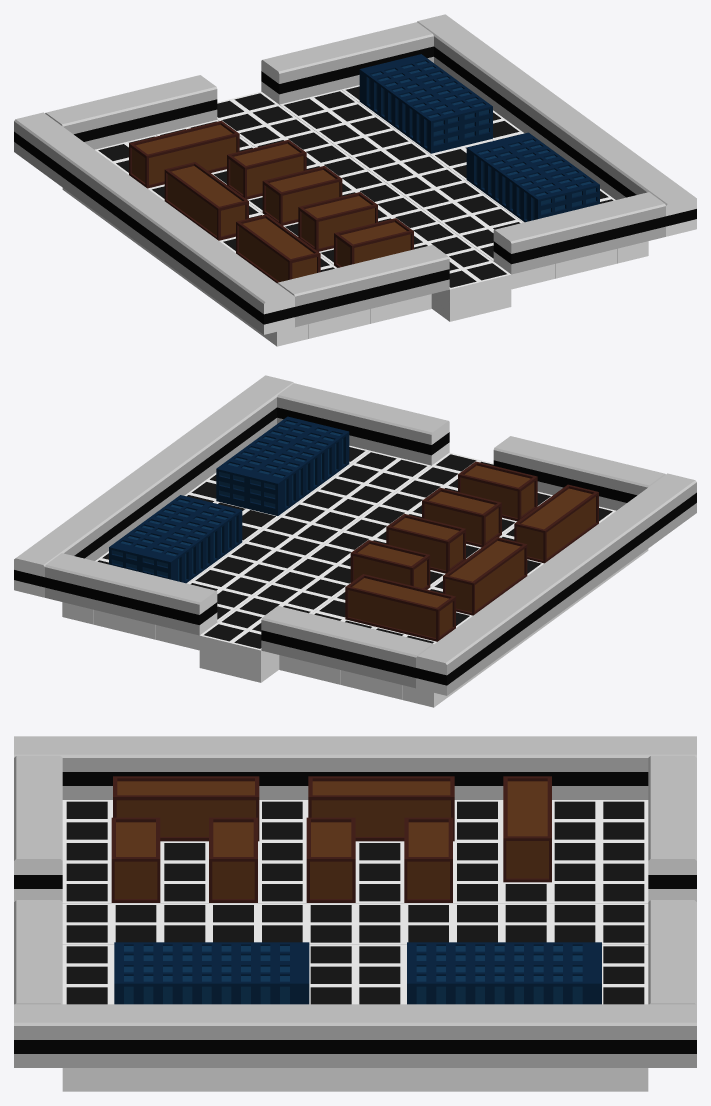
File: cargoMedium2.fbx
The picture shows the model from 3 angles, top to bottom: view 1: azimuth 30°, elevation 25°; view 2: azimuth 150°, elevation 25°; view 3: azimuth 270°, elevation 25°; orthographic projection. The views are drawn at different scales.
Visible parts, largest first — view 1: Cube.163, Cube.195, Cube.009, Cube.008, Cube.003, Cube.164, Cube.197, Cube.196, Cube.198, Cube.194, Cube.001, Cube.168 (+85 smaller); view 2: Cube.195, Cube.009, Cube.163, Cube.003, Cube.008, Cube.194, Cube.196, Cube.197, Cube.001, Cube.198, Cube.164, Cube.010 (+85 smaller); view 3: Cube.194, Cube.164, Cube.008, Cube.003, Cube.009, Cube.197, Cube.001, Cube.196, Cube.198, Cube.195, Cube.163, Cube.174 (+127 smaller).
Boxes of the visible parts, left/top/right/bottom form: Cube.163: left=359, top=61, right=461, bottom=153; Cube.195: left=466, top=140, right=568, bottom=222; Cube.009: left=129, top=120, right=239, bottom=188; Cube.008: left=164, top=162, right=248, bottom=240; Cube.003: left=236, top=214, right=320, bottom=282; Cube.164: left=391, top=54, right=492, bottom=145; Cube.197: left=262, top=166, right=342, bottom=225; Cube.196: left=298, top=192, right=377, bottom=251; Cube.198: left=227, top=139, right=306, bottom=199; Cube.194: left=498, top=132, right=599, bottom=211; Cube.001: left=334, top=218, right=413, bottom=267; Cube.168: left=261, top=52, right=310, bottom=104; Cube.195: left=247, top=424, right=349, bottom=515; Cube.009: left=345, top=574, right=455, bottom=641; Cube.163: left=140, top=502, right=242, bottom=583; Cube.003: left=514, top=484, right=598, bottom=563; Cube.008: left=443, top=537, right=527, bottom=615; Cube.194: left=216, top=416, right=317, bottom=508; Cube.196: left=422, top=487, right=501, bottom=547; Cube.197: left=386, top=513, right=465, bottom=573; Cube.001: left=458, top=461, right=537, bottom=521; Cube.198: left=350, top=540, right=430, bottom=589; Cube.164: left=109, top=495, right=210, bottom=571; Cube.010: left=400, top=413, right=449, bottom=465; Cube.194: left=114, top=963, right=309, bottom=1004; Cube.164: left=407, top=963, right=601, bottom=1004; Cube.008: left=308, top=776, right=454, bottom=841; Cube.003: left=113, top=776, right=259, bottom=841; Cube.009: left=503, top=776, right=551, bottom=882; Cube.197: left=306, top=817, right=355, bottom=902; Cube.001: left=111, top=817, right=160, bottom=902; Cube.196: left=209, top=817, right=257, bottom=902; Cube.198: left=404, top=817, right=452, bottom=902; Cube.195: left=114, top=942, right=309, bottom=962; Cube.163: left=407, top=942, right=601, bottom=962; Cube.174: left=599, top=736, right=648, bottom=799.
Bounding box in the file's own units: 2800 × 400 × 2800.
